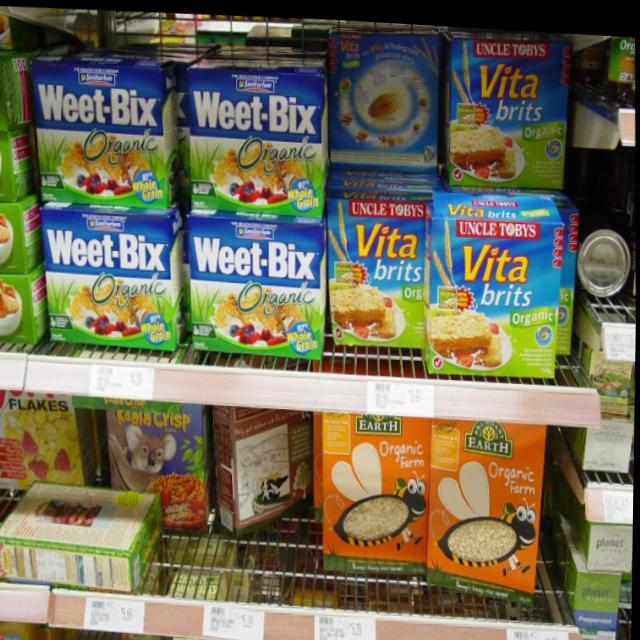q7: (179, 42, 337, 237), (29, 41, 182, 213), (29, 211, 186, 350), (186, 221, 328, 371)
